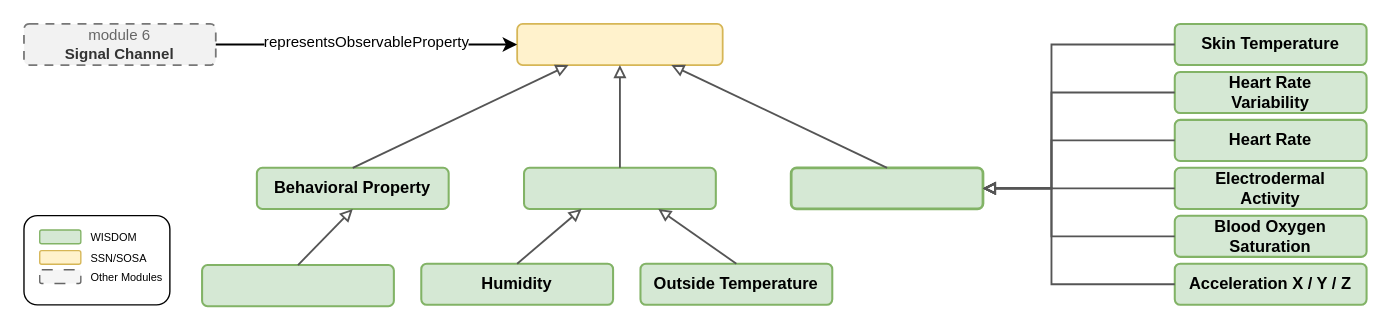
The diagram is 1392 pixels wide and 332 high, and some of its shapes have lost their labels. Each missing label, with the centre of its shape:
Environmental Property: the point at 619,187
Gesture: the point at 297,285
ObservableProperty: the point at 619,43
Physiological Property: the point at 886,188
